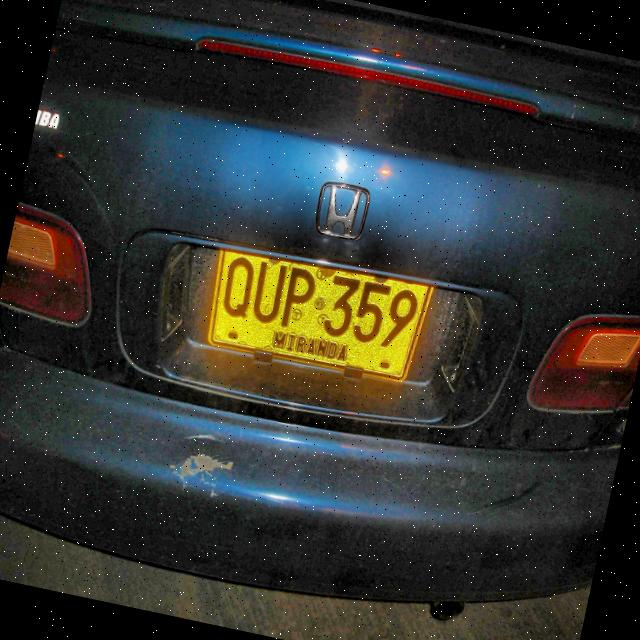3: (318, 272, 362, 341)
5: (349, 278, 392, 347)
9: (378, 285, 423, 353)
P: (278, 264, 319, 332)
Q: (218, 255, 258, 324)
U: (248, 258, 289, 326)
